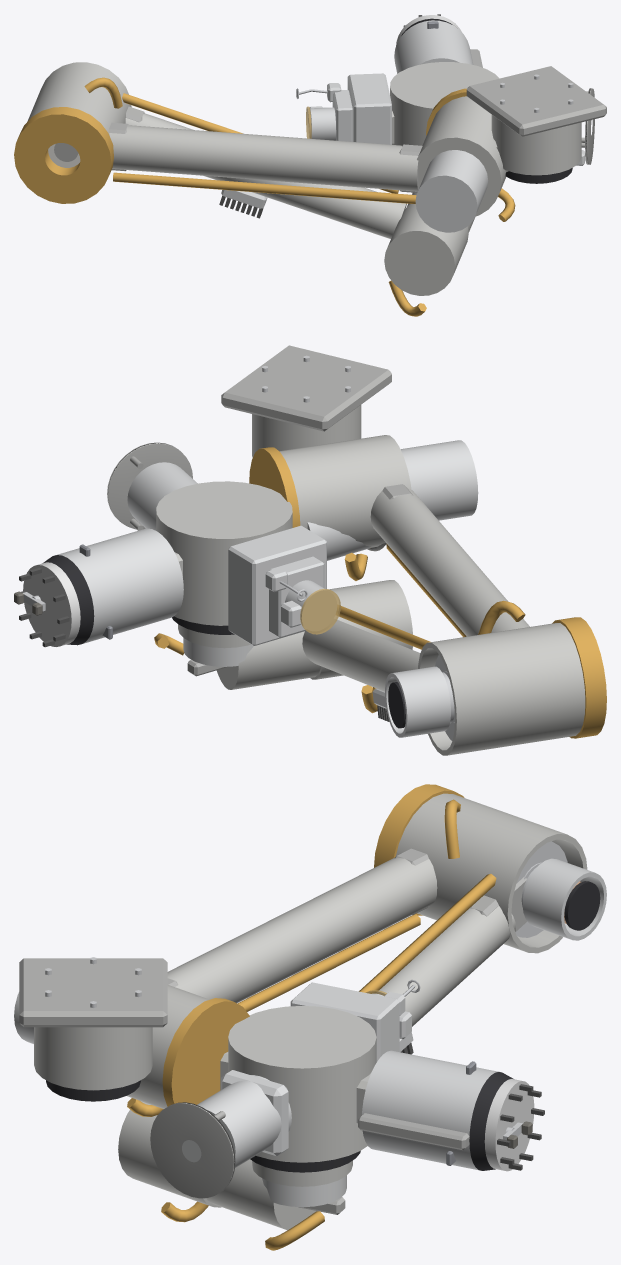
The model's file is mer-arm.glb.
3 views of the same model, one above another, from view 1: azimuth 30°, elevation 25°; view 2: azimuth 150°, elevation 25°; view 3: azimuth 270°, elevation 25° (orthographic). The views are drawn at different scales.
Visible parts, largest first — view 1: IDD_UPPER_ARM, IDD_SHOULDER_EL_ACTUATOR, IDD_ELBOW_SPOOL_COVER, IDD_MOUNT, IDD_WRIST_ACTUATOR, TURRET_HUB, IDD_FOREARM, IDD_SHOULDER_AZ_ACTUATOR, IDD_ELBOW_HOUSING, MI_CAMERA_HEAD, IDD_HARNESS_LINK1, RAT_BODY (+6 smaller); view 2: IDD_ELBOW_HOUSING, IDD_SHOULDER_EL_ACTUATOR, TURRET_HUB, RAT_BODY, IDD_UPPER_ARM, IDD_MOUNT, MI_CAMERA_HEAD, IDD_WRIST_ACTUATOR, IDD_FOREARM, RAT_REVOLVE, IDD_SHOULDER_AZ_ACTUATOR, IDD_ELBOW_SPOOL_COVER (+11 smaller); view 3: TURRET_HUB, IDD_UPPER_ARM, IDD_ELBOW_HOUSING, RAT_BODY, IDD_MOUNT, IDD_SHOULDER_EL_ACTUATOR, IDD_SHOULDER_AZ_ACTUATOR, IDD_FOREARM, MB_CONTACT_PLATE, MB_SENSOR_HEAD, IDD_WRIST_ACTUATOR, MI_CAMERA_HEAD (+11 smaller).
Part boxes in pixels (left/top/right/bottom): IDD_UPPER_ARM: left=109, top=122, right=422, bottom=192; IDD_SHOULDER_EL_ACTUATOR: left=415, top=88, right=505, bottom=232; IDD_ELBOW_SPOOL_COVER: left=14, top=107, right=113, bottom=203; IDD_MOUNT: left=466, top=66, right=606, bottom=136; IDD_WRIST_ACTUATOR: left=384, top=192, right=475, bottom=295; TURRET_HUB: left=390, top=62, right=499, bottom=145; IDD_FOREARM: left=125, top=106, right=406, bottom=238; IDD_SHOULDER_AZ_ACTUATOR: left=491, top=115, right=581, bottom=183; IDD_ELBOW_HOUSING: left=27, top=62, right=131, bottom=135; MI_CAMERA_HEAD: left=332, top=73, right=391, bottom=144; IDD_HARNESS_LINK1: left=113, top=172, right=416, bottom=204; RAT_BODY: left=394, top=18, right=473, bottom=73; IDD_ELBOW_HOUSING: left=385, top=623, right=585, bottom=755; IDD_SHOULDER_EL_ACTUATOR: left=249, top=435, right=478, bottom=547; TURRET_HUB: left=156, top=481, right=292, bottom=676; RAT_BODY: left=43, top=528, right=183, bottom=645; IDD_UPPER_ARM: left=370, top=484, right=529, bottom=636; IDD_MOUNT: left=221, top=345, right=391, bottom=431; MI_CAMERA_HEAD: left=228, top=525, right=326, bottom=645; IDD_WRIST_ACTUATOR: left=216, top=580, right=412, bottom=689; IDD_FOREARM: left=302, top=619, right=420, bottom=691; RAT_REVOLVE: left=23, top=562, right=80, bottom=646; IDD_SHOULDER_AZ_ACTUATOR: left=252, top=405, right=361, bottom=457; IDD_ELBOW_SPOOL_COVER: left=552, top=617, right=606, bottom=738; TURRET_HUB: left=228, top=1006, right=376, bottom=1214; IDD_UPPER_ARM: left=167, top=848, right=437, bottom=1003; IDD_ELBOW_HOUSING: left=396, top=793, right=606, bottom=953; RAT_BODY: left=362, top=1050, right=513, bottom=1170; IDD_MOUNT: left=19, top=957, right=167, bottom=1027; IDD_SHOULDER_EL_ACTUATOR: left=14, top=985, right=249, bottom=1108; IDD_SHOULDER_AZ_ACTUATOR: left=34, top=1027, right=152, bottom=1101; IDD_FOREARM: left=376, top=877, right=527, bottom=1026; MB_CONTACT_PLATE: left=150, top=1102, right=235, bottom=1198; MB_SENSOR_HEAD: left=182, top=1070, right=291, bottom=1167; IDD_WRIST_ACTUATOR: left=118, top=1101, right=317, bottom=1230; MI_CAMERA_HEAD: left=290, top=982, right=399, bottom=1061.
Bounding box in the file's own units: 0.5094 × 0.2229 × 0.3995.
